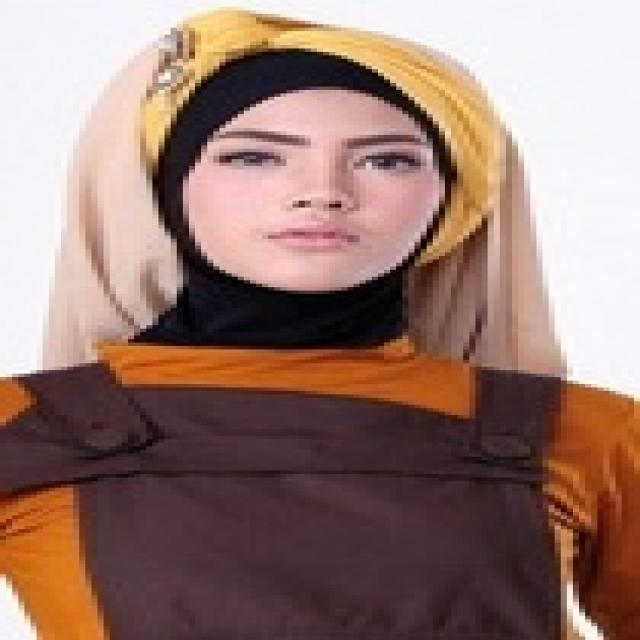head: (114, 11, 507, 304)
